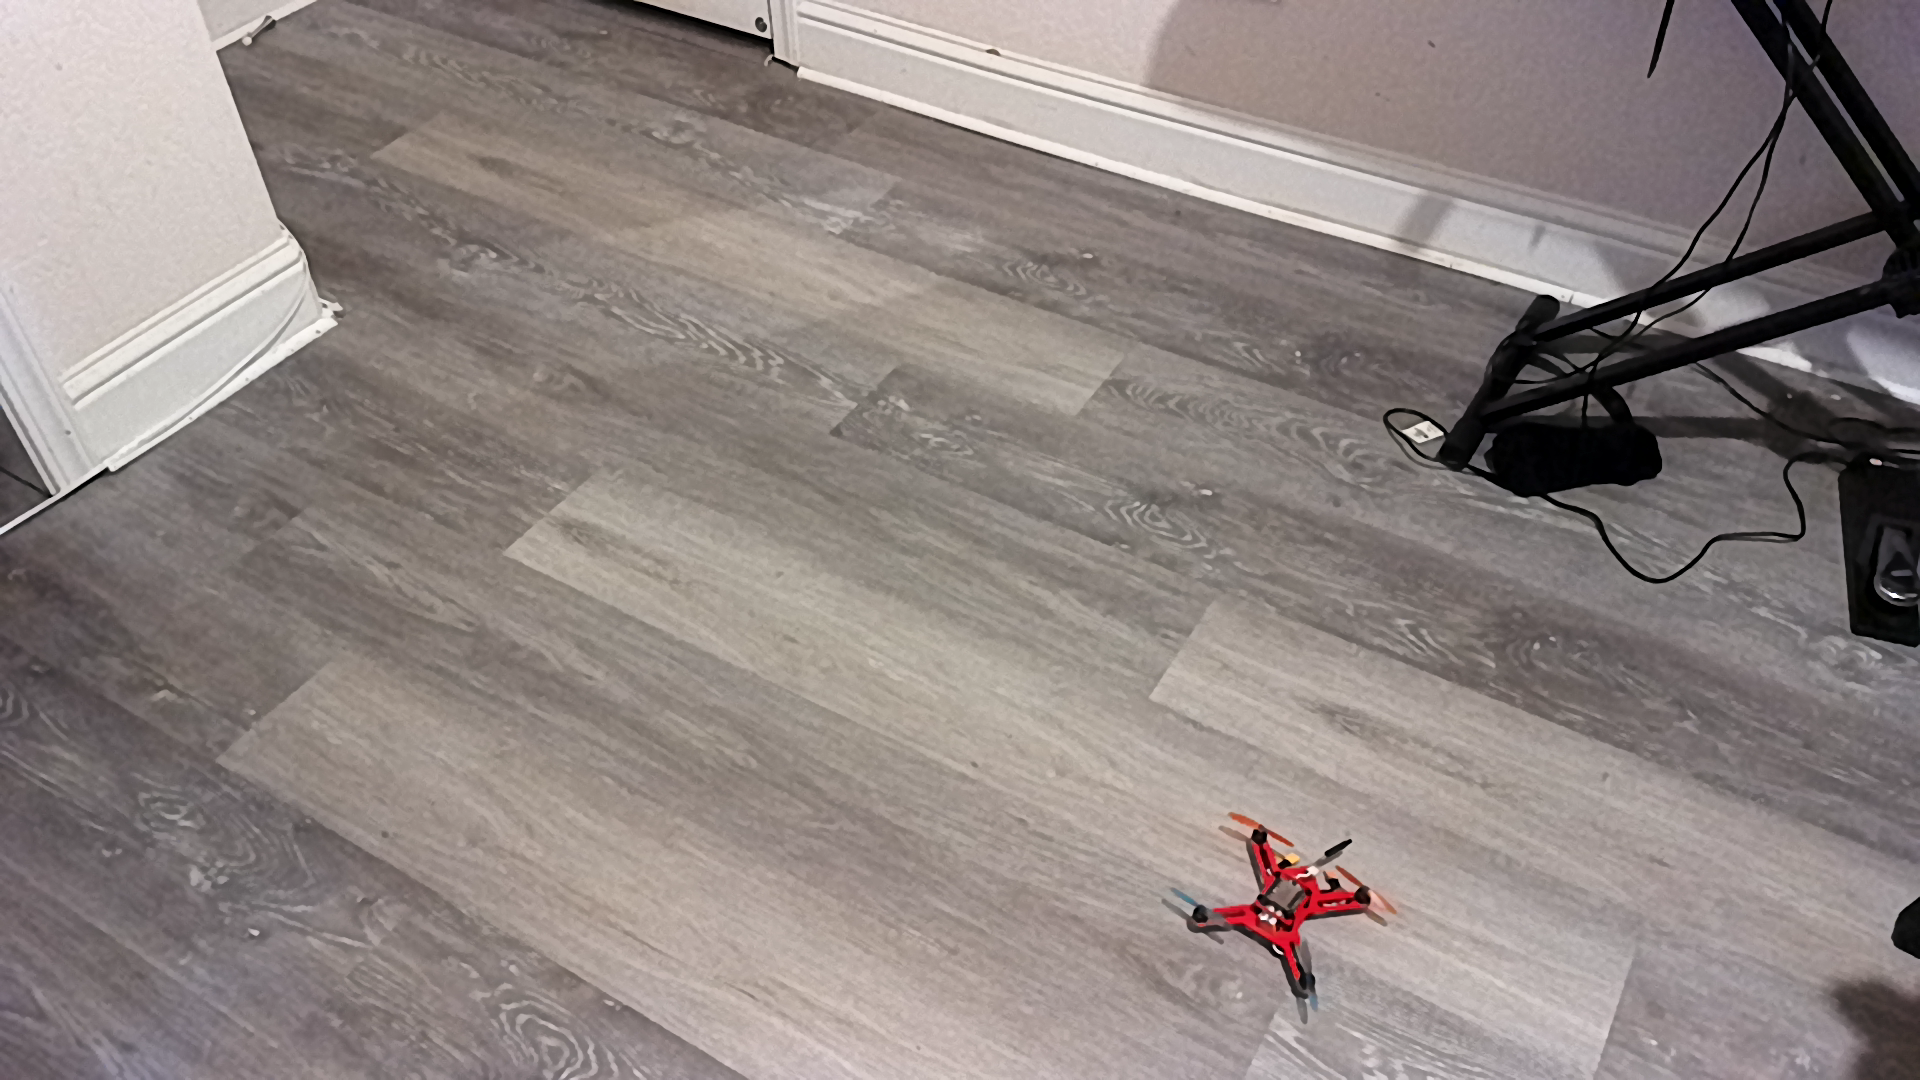drone: (1163, 808, 1408, 1015)
